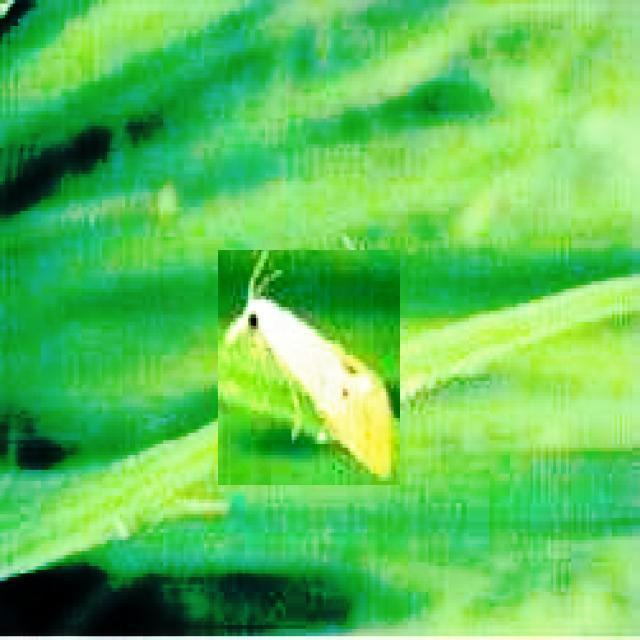stem-borer: (218, 250, 400, 485)
